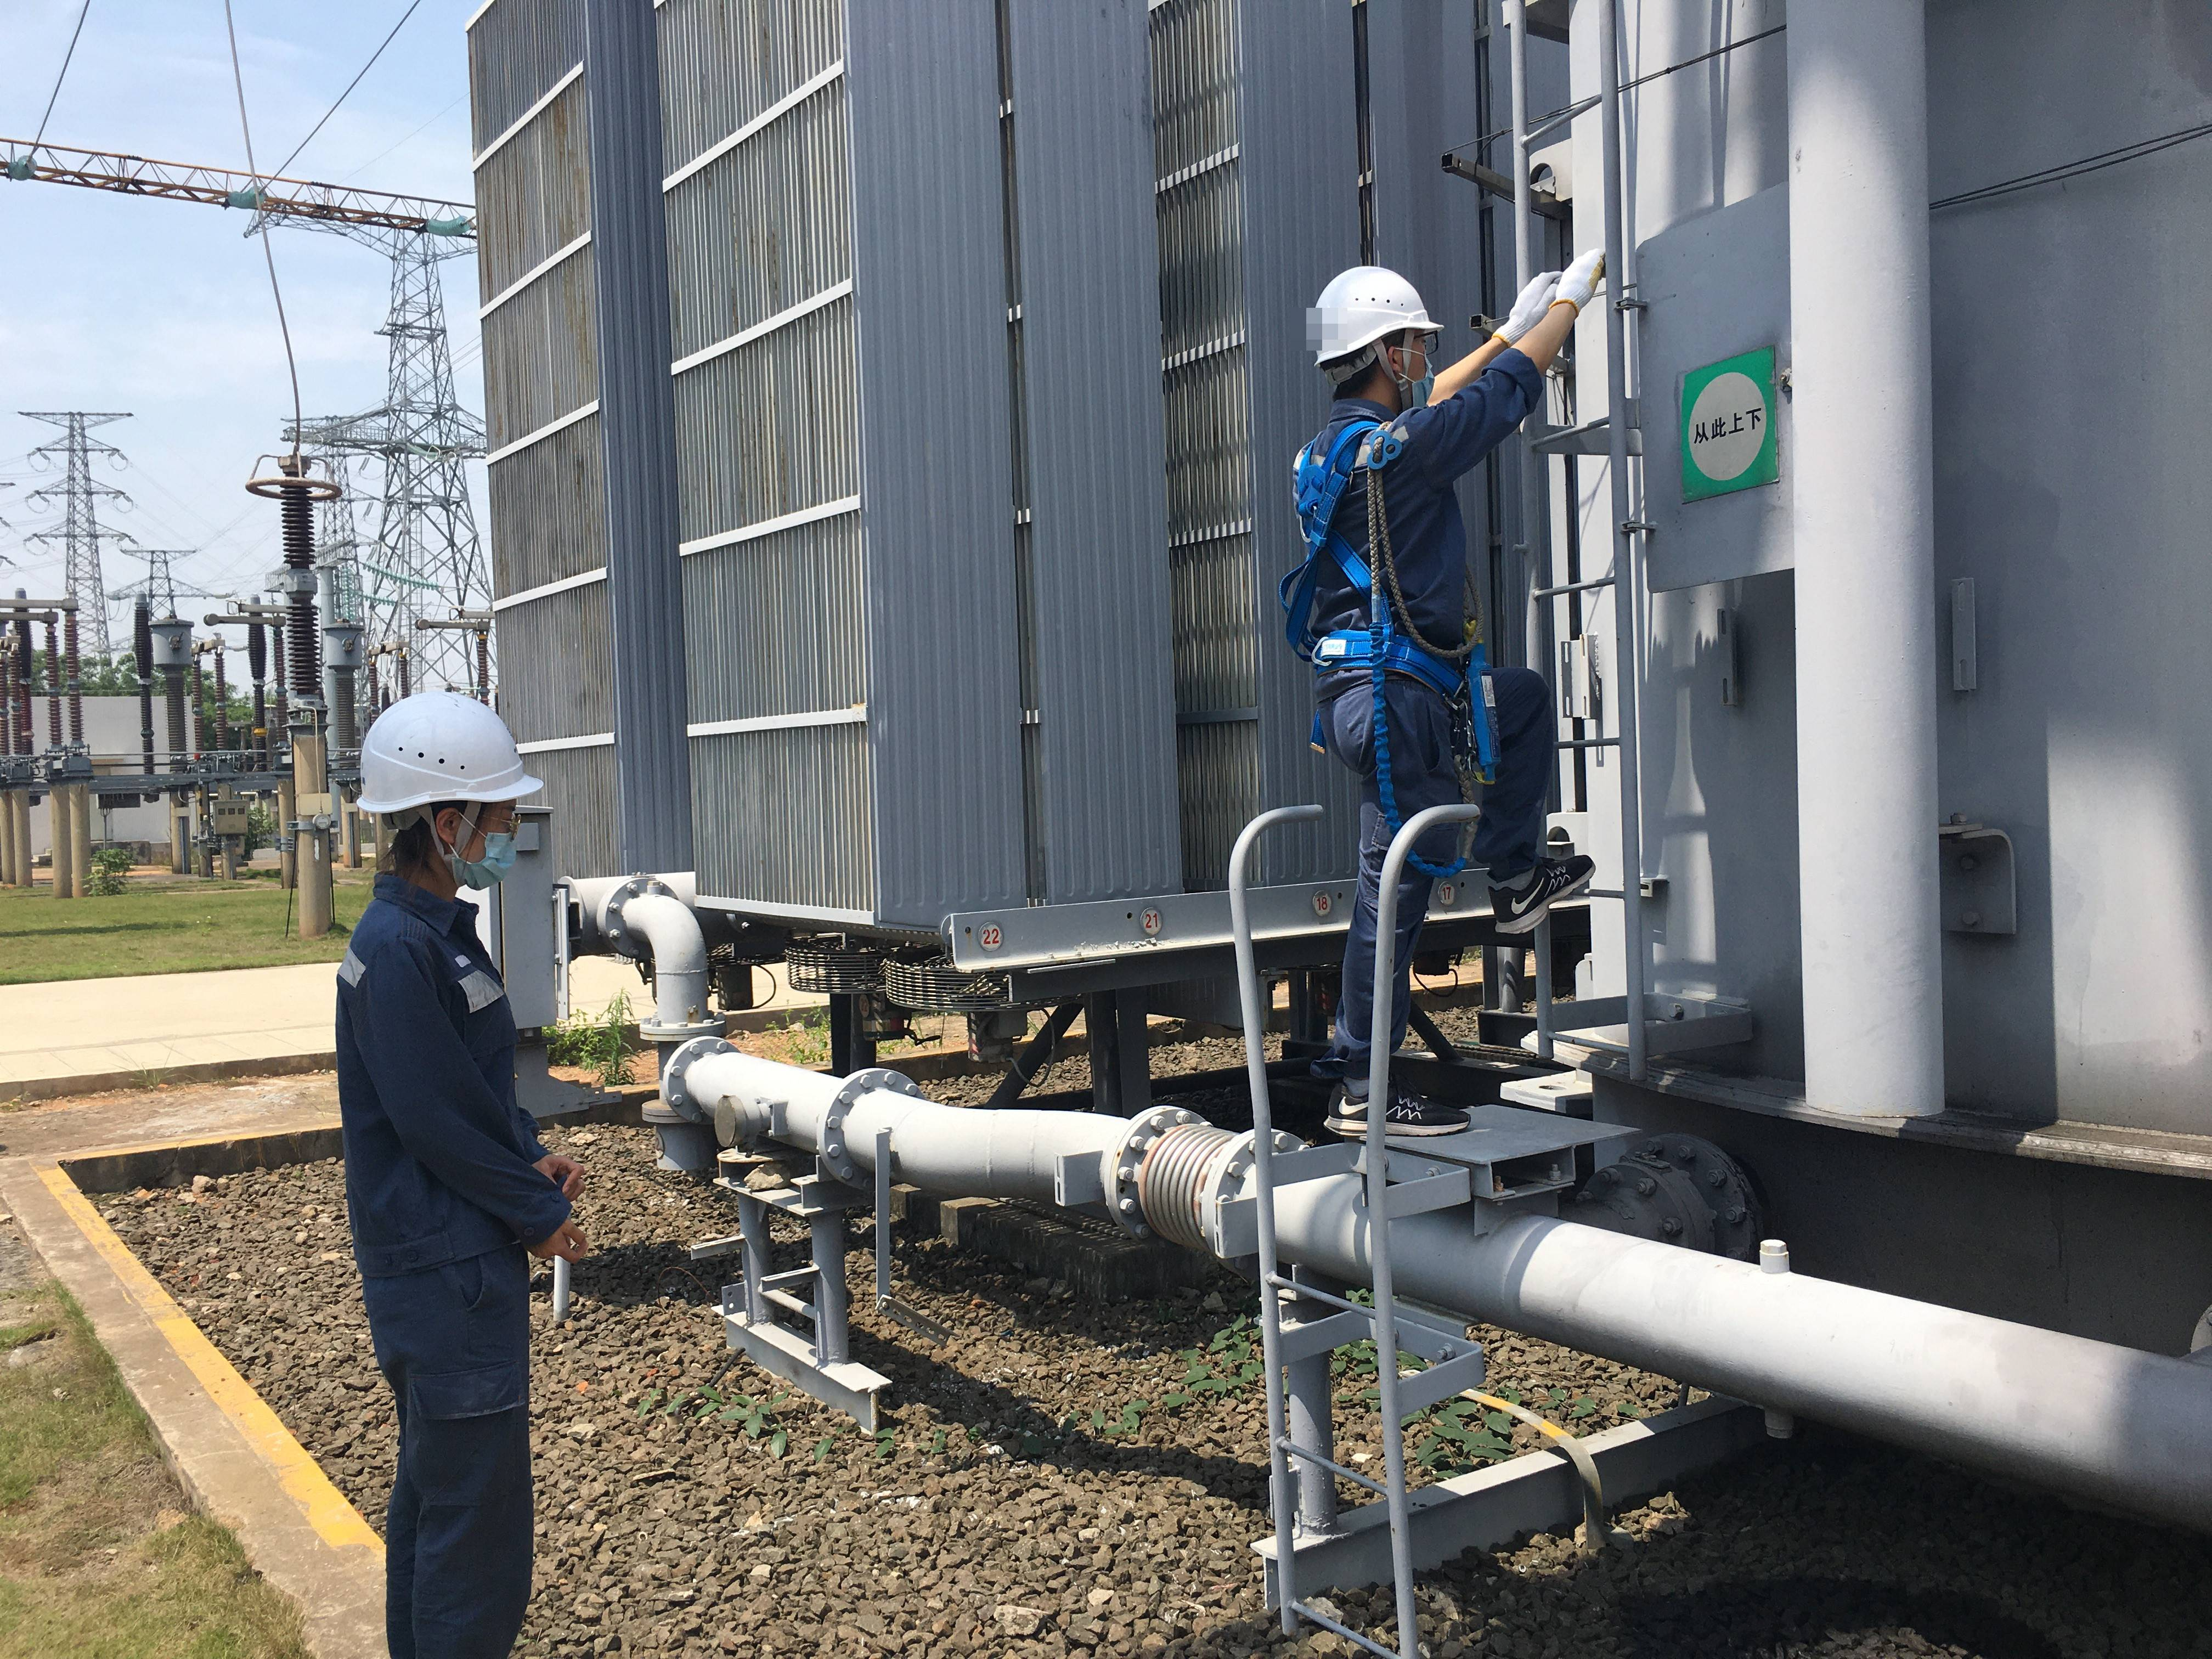downsuit: (1325, 681, 1557, 1061), (359, 1274, 556, 1645)
upsuit: (340, 901, 554, 1249), (1291, 420, 1470, 653)
wrongtop: (1430, 282, 1597, 392)
